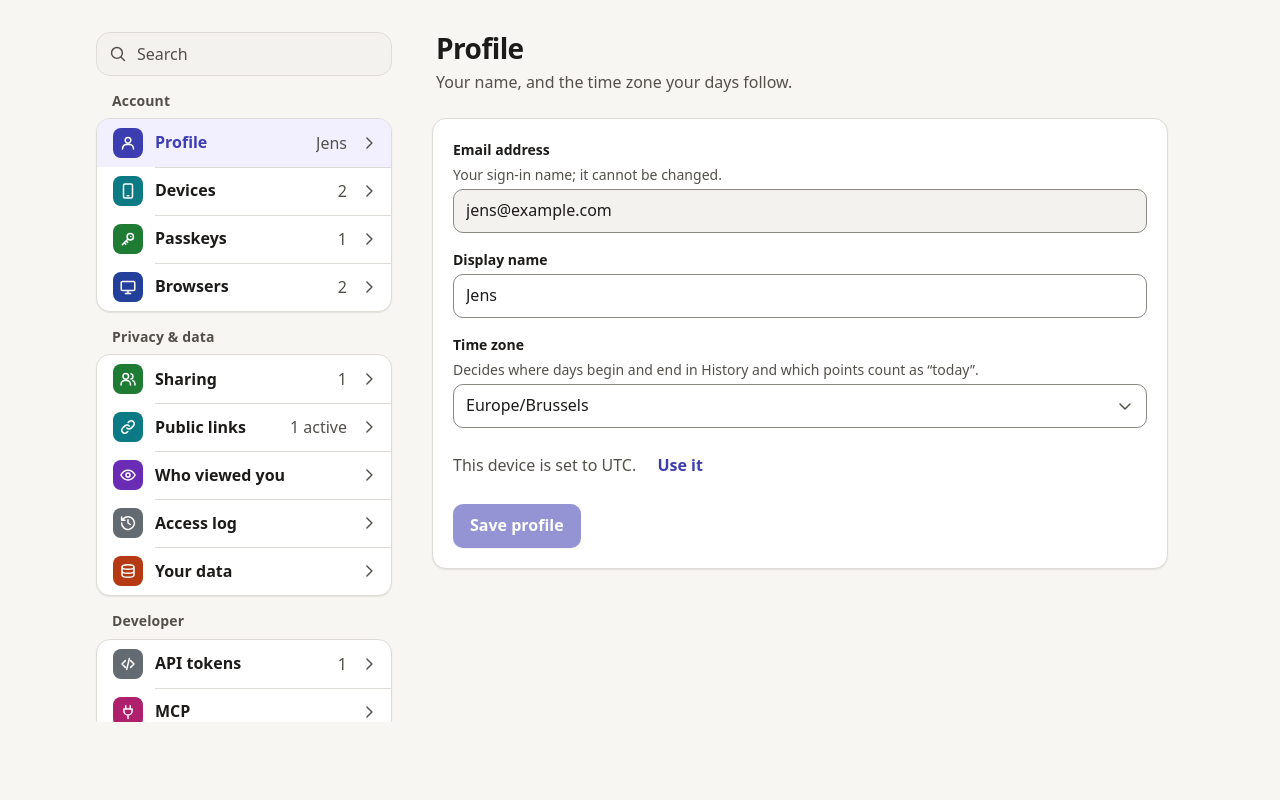
Settings beside the list › searches from the sidebar and keeps the query while pages change
Type "ntfy" into the search field named "Search Settings" at {"x": 244, "y": 54}, box 96,32 -> 392,76
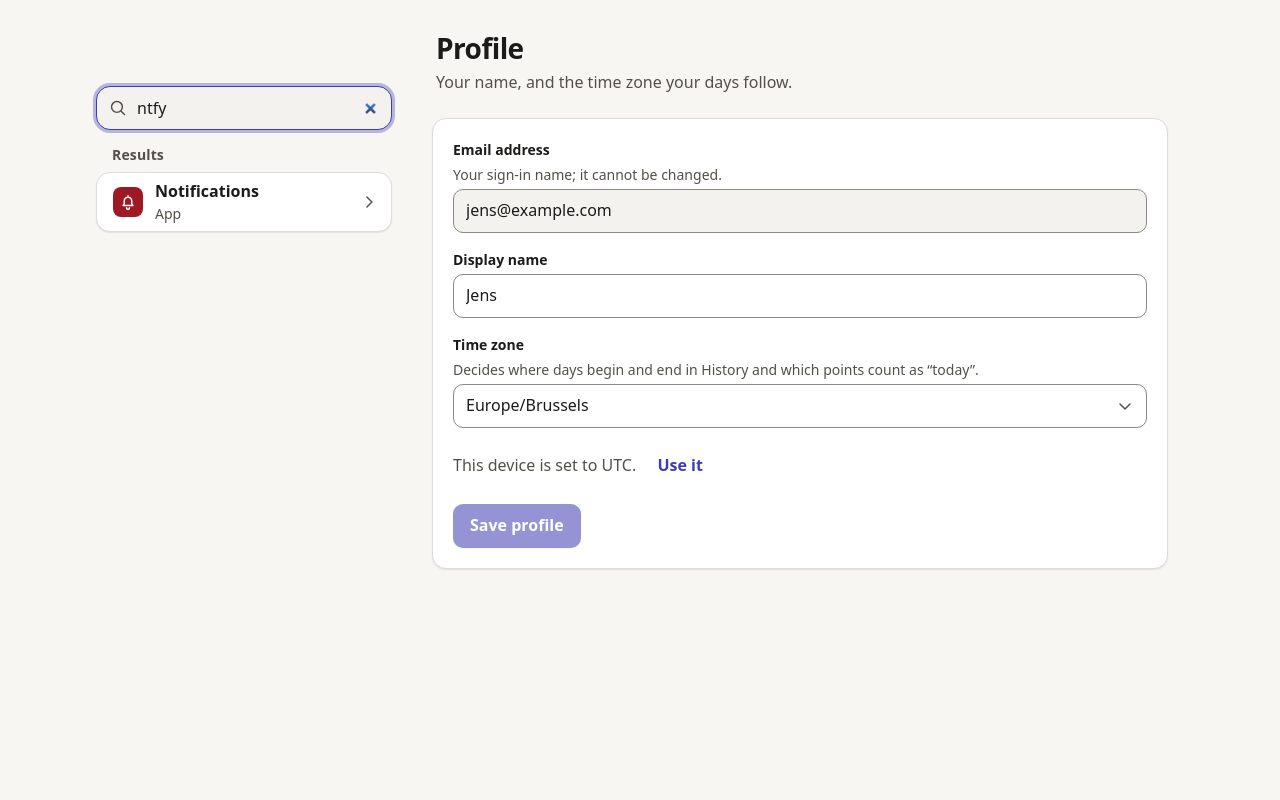
Click the link "Notifications App" at {"x": 244, "y": 202}, box 97,173 -> 391,231
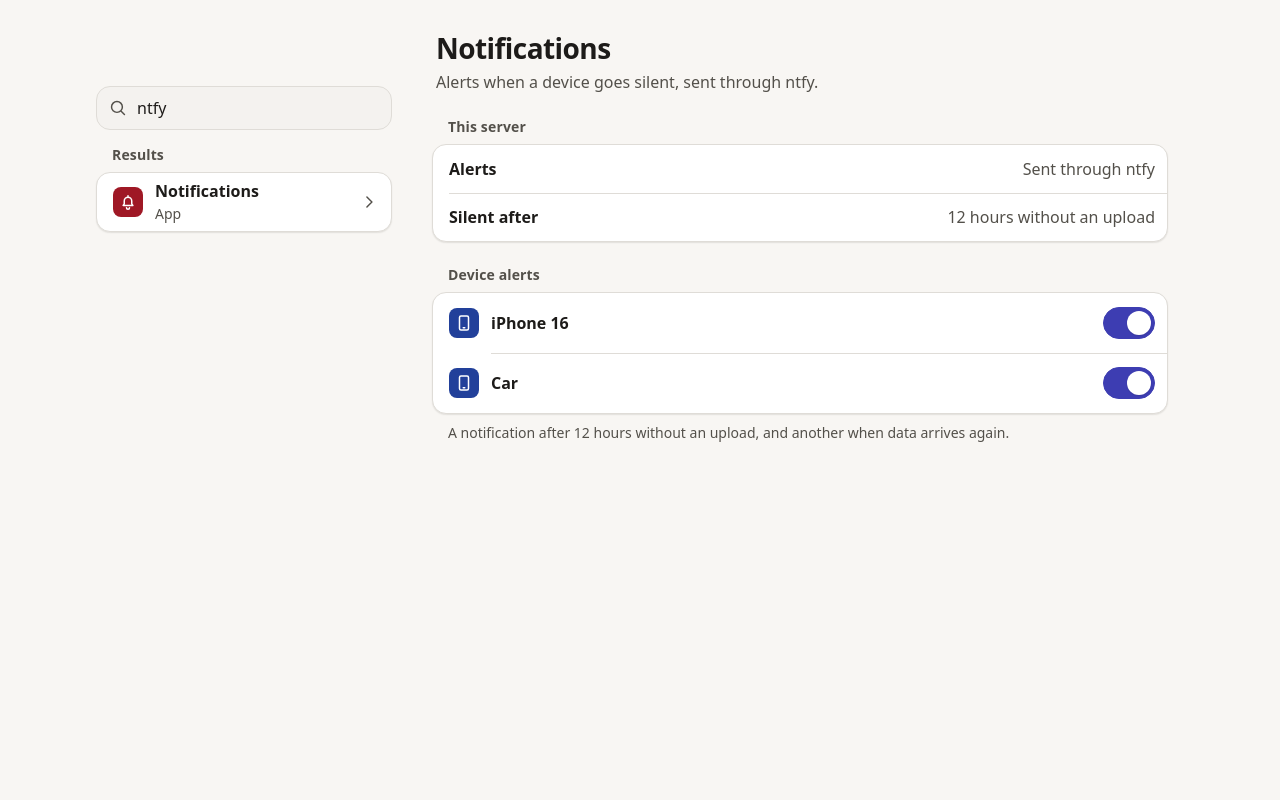
Check: the heading "Notifications" is shown, box 436,29 -> 610,67
